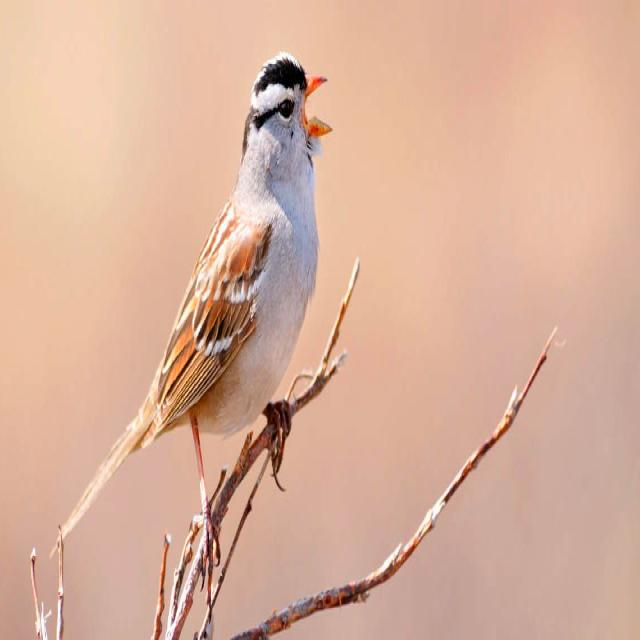sparrow: (63, 52, 332, 608)
